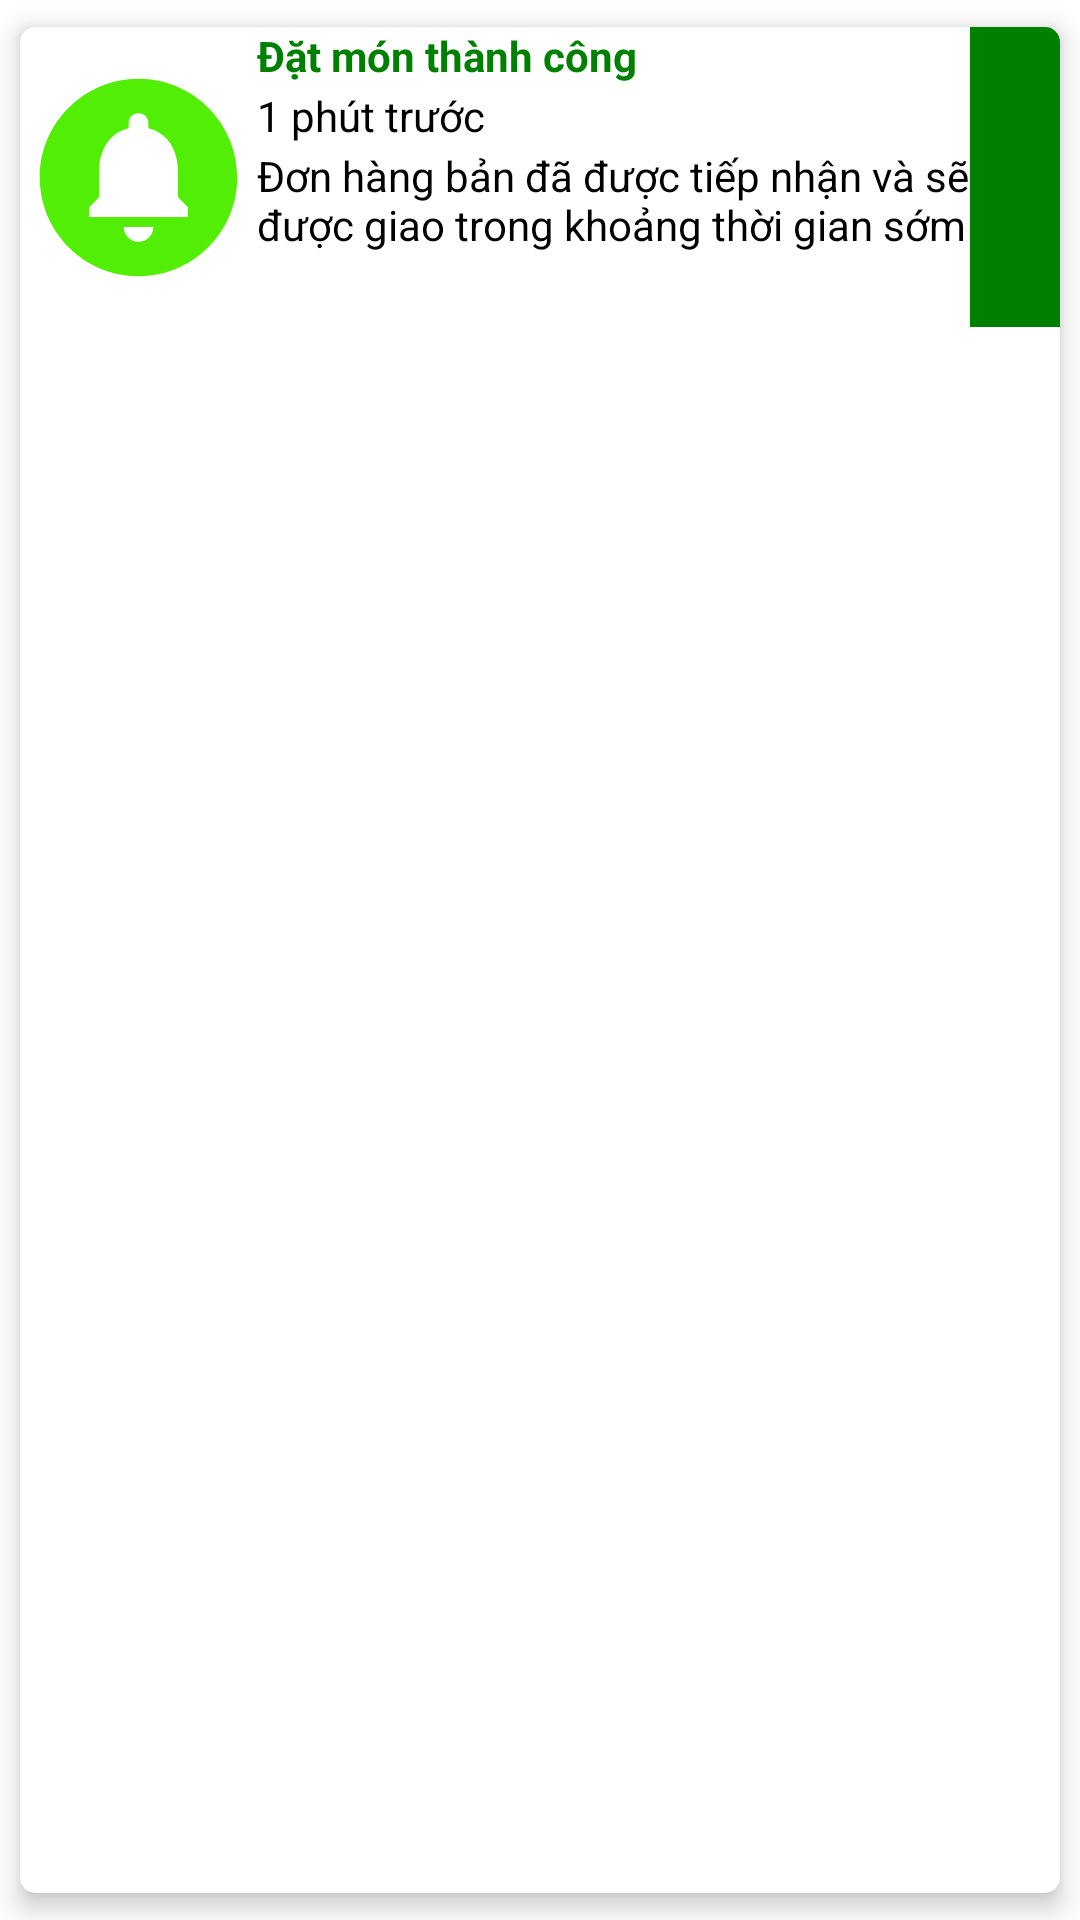

Where to tap for icons on this 1080 x 1920 app screen, as (x,y):
circle notifications: (138,177)
